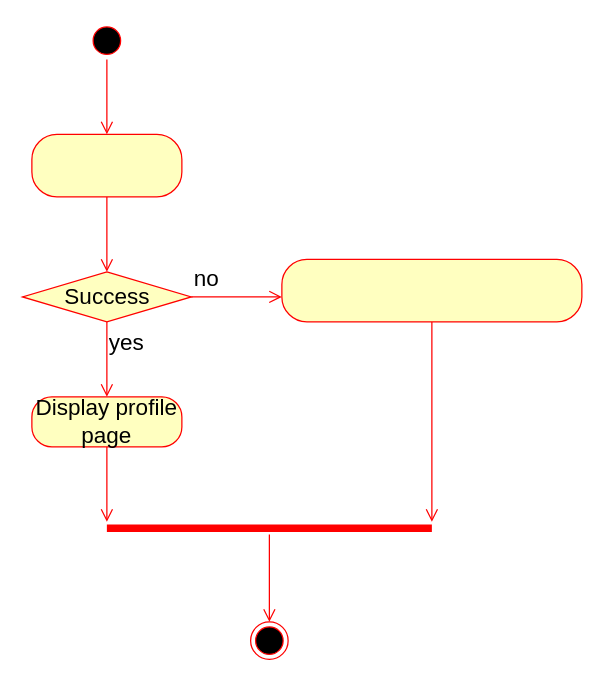
This 604x681 diagram has some shape labels left out. Here are the shapes that lost their labels. From the top down, the centre of each, then its label:
point 106,165: Click on profile
point 431,290: Popup error and turn back to main page
